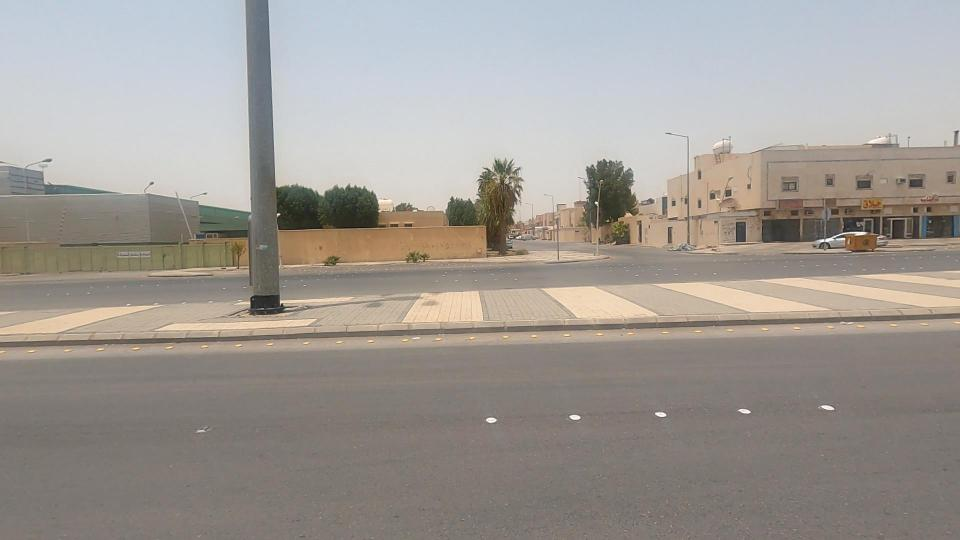BAD_BILLBOARD: (752, 171, 828, 240)
GARBAGE: (650, 221, 717, 274)
